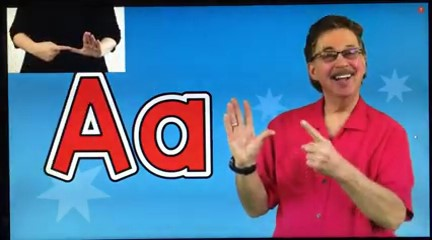A: (35, 30, 108, 64)
